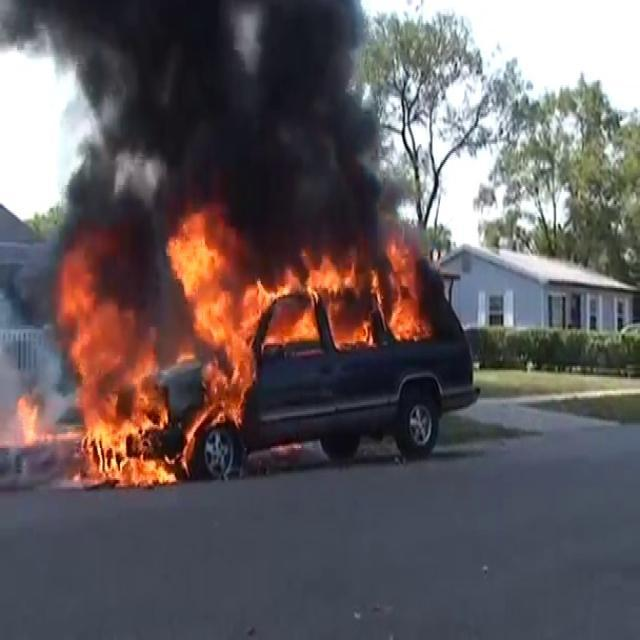Fire: (17, 215, 433, 488)
Smoke: (0, 0, 383, 286)
